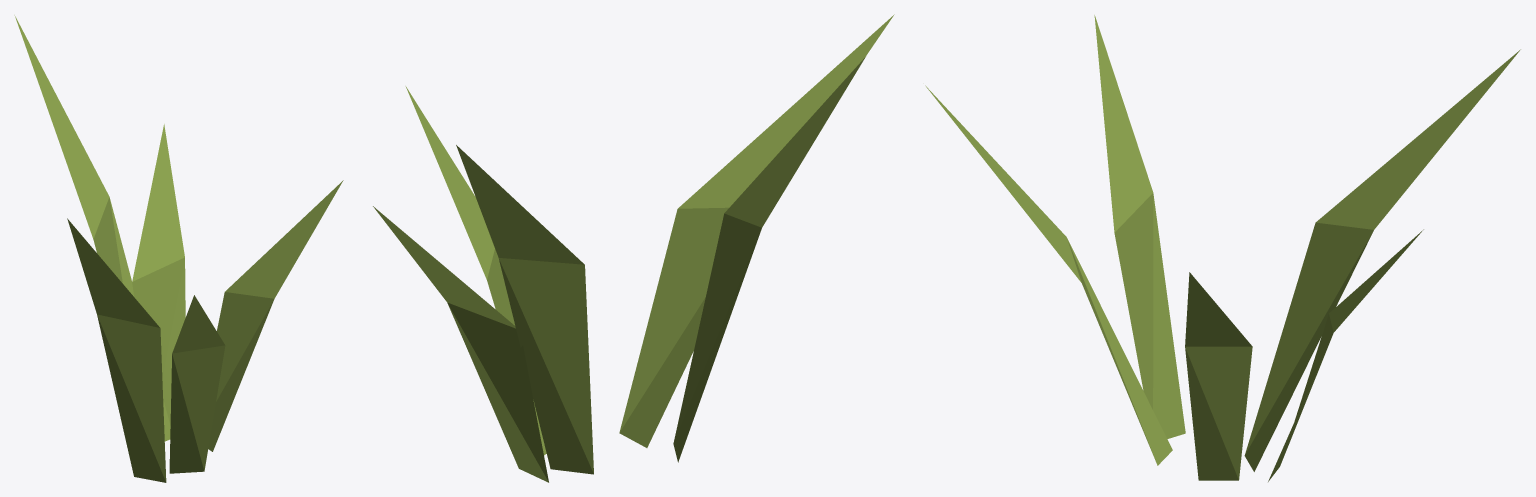
File: grass.glb
3 views of the same model, side by side, from view 1: azimuth 30°, elevation 25°; view 2: azimuth 150°, elevation 25°; view 3: azimuth 270°, elevation 25° (orthographic). The views are drawn at different scales.
Visible parts, largest first — view 1: Blade 2 | cupped shoulder, narrow root, swept tip, Blade 4 | cupped shoulder, narrow root, swept tip, Blade 0 | cupped shoulder, narrow root, swept tip, Blade 1 | cupped shoulder, narrow root, swept tip, Blade 3 | cupped shoulder, narrow root, swept tip; view 2: Blade 3 | cupped shoulder, narrow root, swept tip, Blade 1 | cupped shoulder, narrow root, swept tip, Blade 2 | cupped shoulder, narrow root, swept tip, Blade 4 | cupped shoulder, narrow root, swept tip, Blade 0 | cupped shoulder, narrow root, swept tip; view 3: Blade 3 | cupped shoulder, narrow root, swept tip, Blade 2 | cupped shoulder, narrow root, swept tip, Blade 0 | cupped shoulder, narrow root, swept tip, Blade 1 | cupped shoulder, narrow root, swept tip, Blade 4 | cupped shoulder, narrow root, swept tip.
Boxes of the visible parts, x1,y1,x2,y2 form: Blade 2 | cupped shoulder, narrow root, swept tip: (67,218,166,482); Blade 4 | cupped shoulder, narrow root, swept tip: (132,124,185,425); Blade 0 | cupped shoulder, narrow root, swept tip: (208,180,343,451); Blade 1 | cupped shoulder, narrow root, swept tip: (169,295,225,473); Blade 3 | cupped shoulder, narrow root, swept tip: (14,15,170,441); Blade 3 | cupped shoulder, narrow root, swept tip: (456,145,593,474); Blade 1 | cupped shoulder, narrow root, swept tip: (619,14,894,447); Blade 2 | cupped shoulder, narrow root, swept tip: (673,57,865,462); Blade 4 | cupped shoulder, narrow root, swept tip: (373,206,548,482); Blade 0 | cupped shoulder, narrow root, swept tip: (405,86,546,455); Blade 3 | cupped shoulder, narrow root, swept tip: (1244,49,1520,471); Blade 2 | cupped shoulder, narrow root, swept tip: (1094,15,1185,438); Blade 0 | cupped shoulder, narrow root, swept tip: (1185,272,1252,480); Blade 1 | cupped shoulder, narrow root, swept tip: (925,85,1172,465); Blade 4 | cupped shoulder, narrow root, swept tip: (1268,229,1423,481).
Bounding box in the file's own units: 0.4006 × 0.42 × 0.5695.
